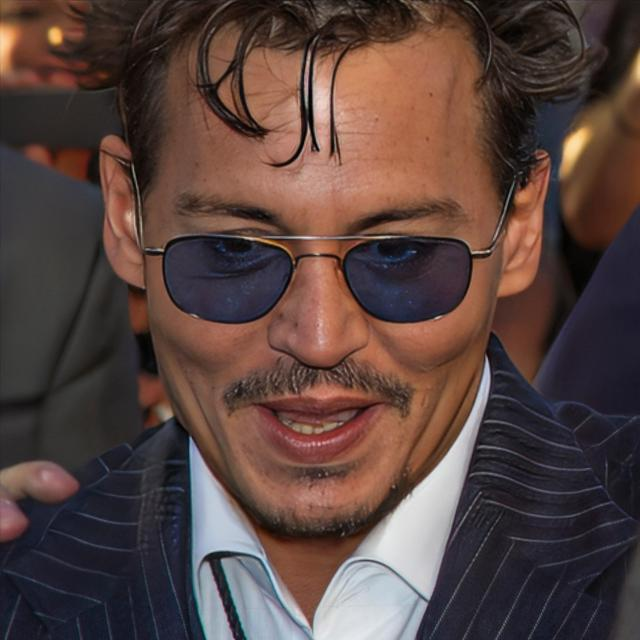happy: (145, 41, 504, 538)
